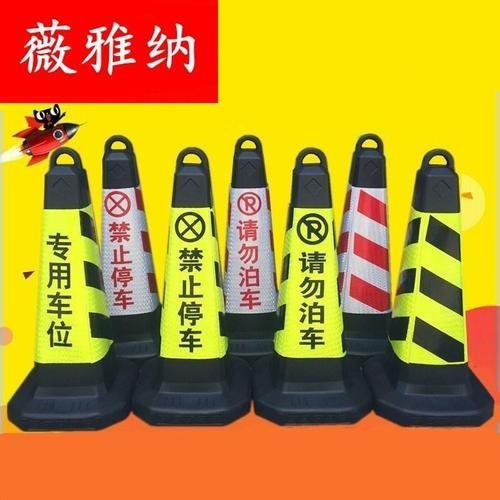cone_barrel: (8, 157, 129, 415), (383, 147, 473, 399), (265, 151, 353, 395), (152, 148, 231, 388), (91, 142, 163, 350), (215, 135, 283, 352), (335, 133, 394, 335)
